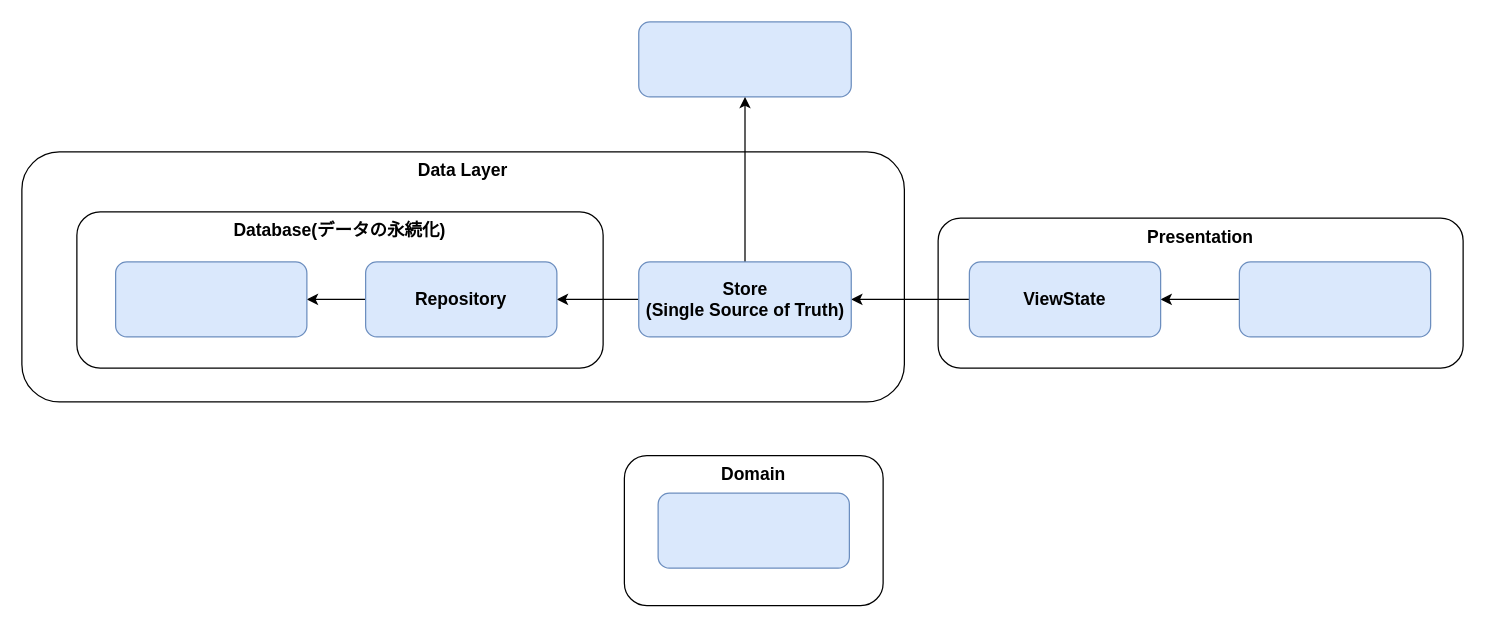
Image size: 1485x628. Some labels were removed from this diagram. The centre of each missing label's shape, as x and y in pixels:
Backend: point 210,299
Entity: point 753,530
GitHub API (外部パッケージ): point 744,59
View: point 1334,299
